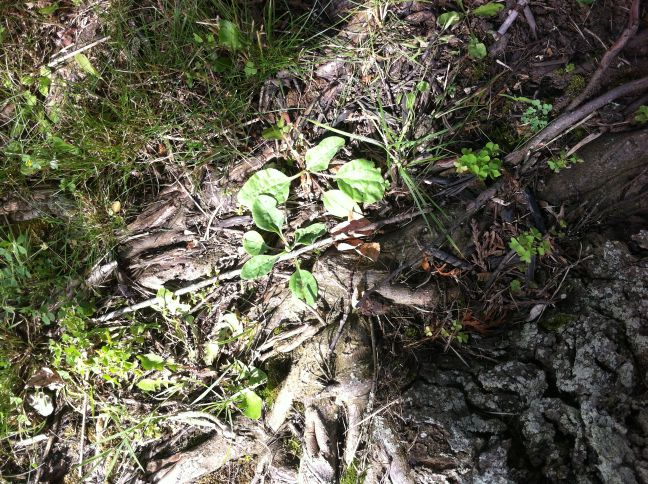weed1: (237, 131, 391, 208), (236, 194, 336, 300)
